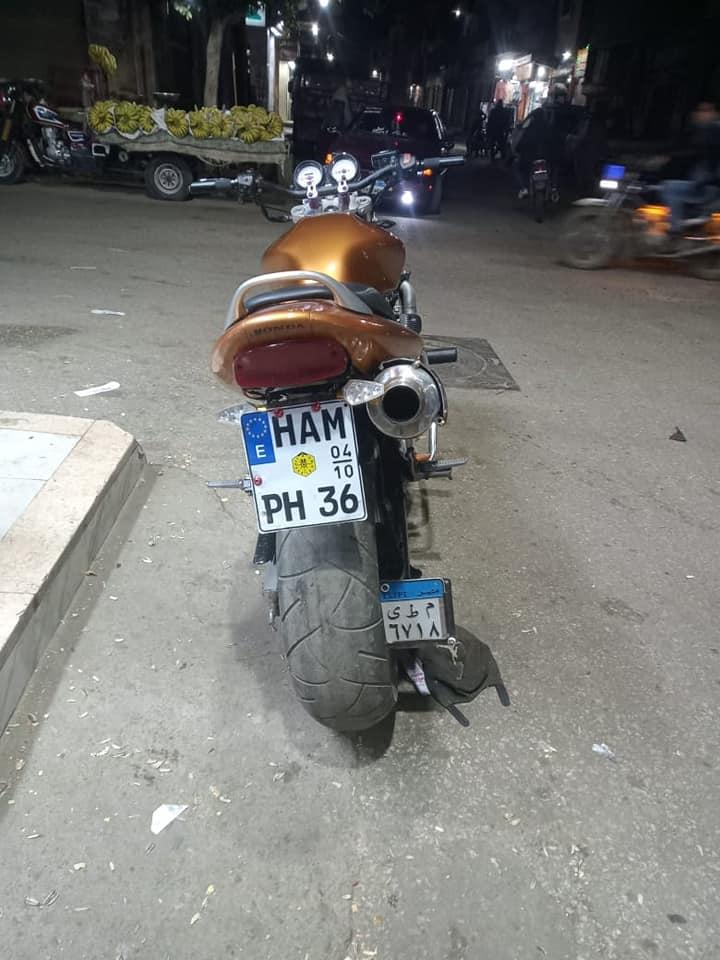License Plate: (380, 576, 452, 642)
